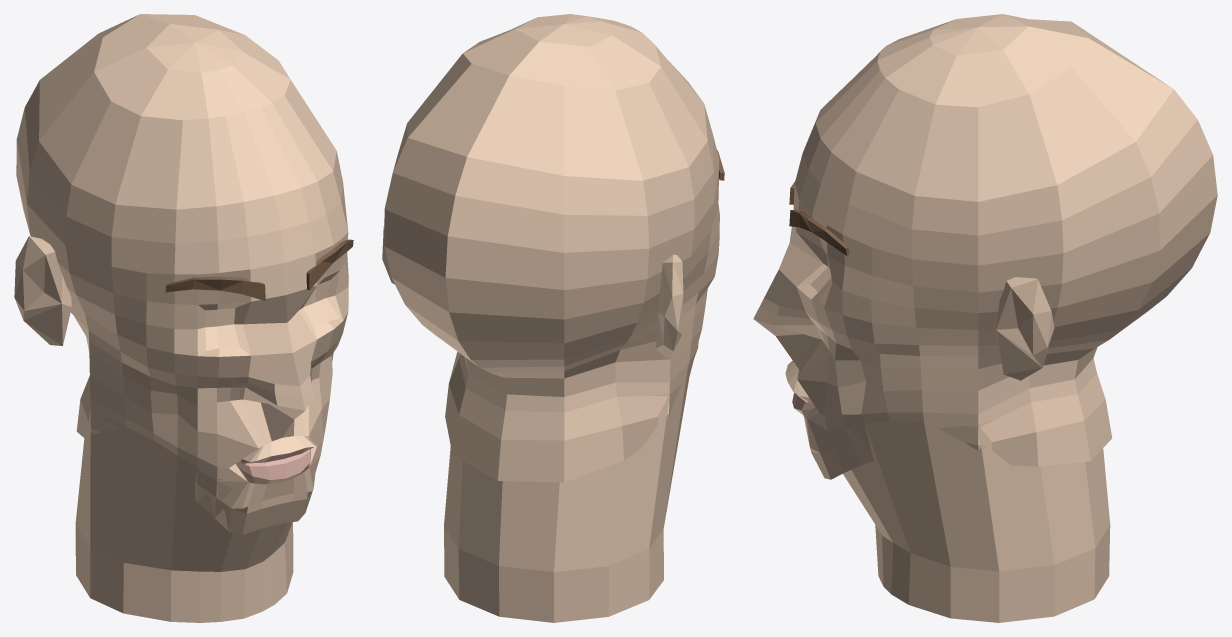
Rendered from head_tpl_v6.glb.
The picture shows the model from 3 angles, left to right: view 1: azimuth 30°, elevation 25°; view 2: azimuth 150°, elevation 25°; view 3: azimuth 270°, elevation 25°; orthographic projection.
Parts seen in each view (by area): view 1: Head_Main, Ears, Eyebrow_R, Eyebrow_L; view 2: Head_Main, Ears; view 3: Head_Main, Ears, Eyebrow_L.
Boxes of the visible parts, x1,y1,x2,y2 form: Head_Main: (16,14,348,622); Ears: (14,236,71,345); Eyebrow_R: (165,276,265,300); Eyebrow_L: (306,239,353,290); Head_Main: (384,14,719,622); Ears: (382,225,683,359); Head_Main: (753,14,1217,622); Ears: (996,277,1054,380); Eyebrow_L: (789,210,849,255).
Bounding box in the file's own units: 0.1635 × 0.2886 × 0.2209.
